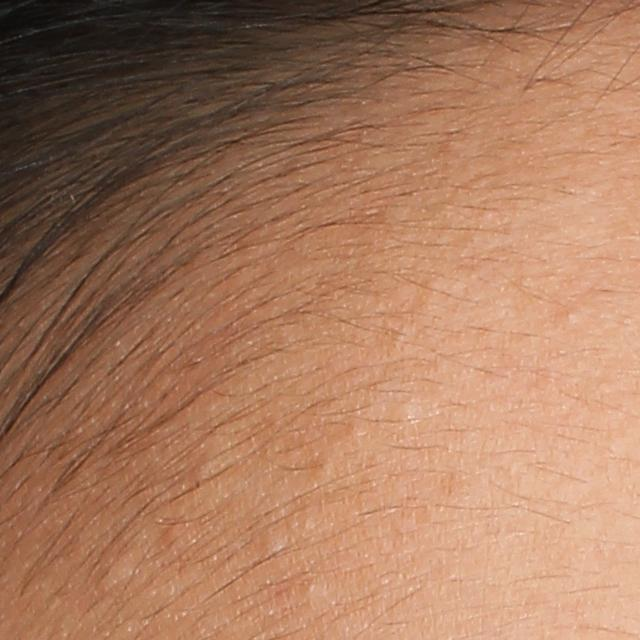comedo: (304, 452, 341, 490), (387, 401, 422, 432), (553, 304, 584, 333)
